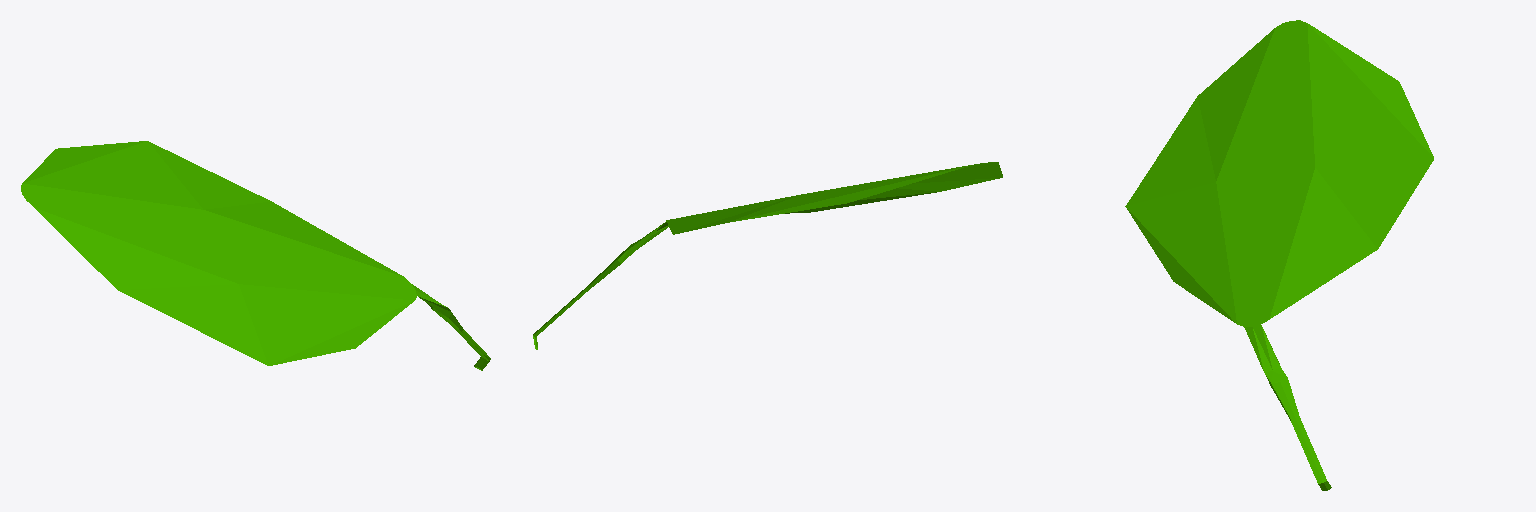
URDF robot description (second_leaf):
<?xml version="1.0"?>
<robot name="second_leaf">
  <!-- 基座 -->
  <link name="second_leaf">
    <visual>
      <material name="green">
      <color rgba="0.3 0.7 0 1"/>
      </material>
      <origin xyz="0.03075 -0.522 -0.3289"/> <!-- 根据缩放调整位置 -->
      <geometry>
        <mesh filename="second_leaf.stl" scale="0.05 0.05 0.05"/>
      </geometry>
    </visual>
    <collision>
      <origin xyz="0.03075 -0.522 -0.3289"/> <!-- 根据缩放调整位置 -->
      <geometry>
        <mesh filename="second_leaf.stl" scale="0.05 0.05 0.05"/>
      </geometry>
    </collision>
    <inertial>
      <mass value="100.0"/>
      <inertia ixx="0.1" ixy="0.0" ixz="0.0" iyy="0.1" iyz="0.0" izz="0.1"/>
    </inertial>
  </link>

</robot>

--- What the picture shows (computed from the rendered views, not written in the file) ---
Views: 3 orthographic renders of the robot side by side, from view 1: azimuth 30°, elevation 25°; view 2: azimuth 150°, elevation 25°; view 3: azimuth 270°, elevation 25°.
Robot: second_leaf — 1 links, 0 joints (none); root link second_leaf; default pose: all joints at 0.
Visible links, largest first — view 1: second_leaf; view 2: second_leaf; view 3: second_leaf.
Link boxes in pixels (<box>): second_leaf: <box>21,141,490,370</box>; second_leaf: <box>533,162,1002,349</box>; second_leaf: <box>1125,20,1433,490</box>.
Size in the robot's own frame: 0.5385 by 0.3407 by 0.3272 metres.
Meshes: 1 distinct files referenced, 1 mesh visuals loaded (1 binary STL).
